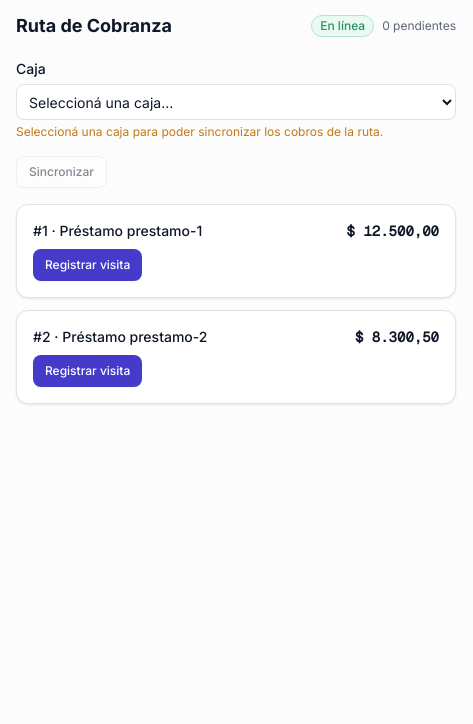
RutaPage (La Ruta offline) › BLOCKER: sin caja seleccionada, una visita de pago no sincroniza y avisa 'Seleccioná una caja'
Click the button "Registrar visita" below "$ 12.500,00". click: (88, 265)
box: [33,249,142,281]
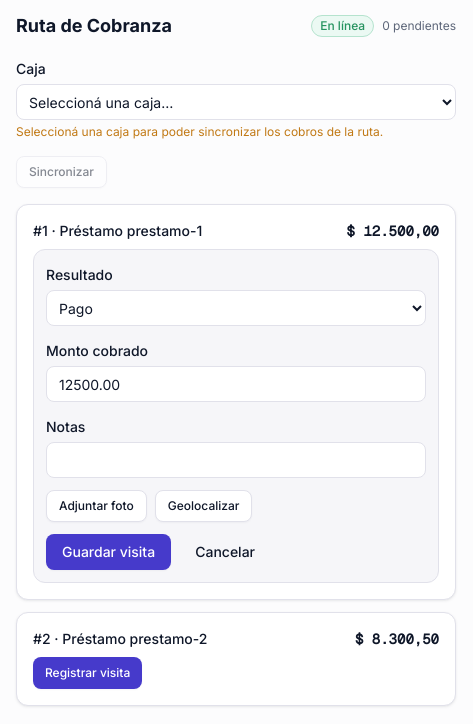
Replace the text in the field labelled "Monto cobrado" with "2200.00". click: (236, 384)
box: [46,366,426,402]
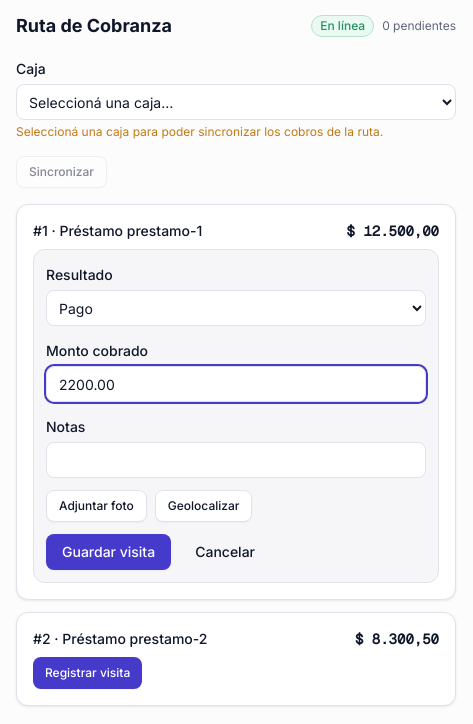
Click the button "Guardar visita". click: (109, 552)
box: [46,534,171,570]
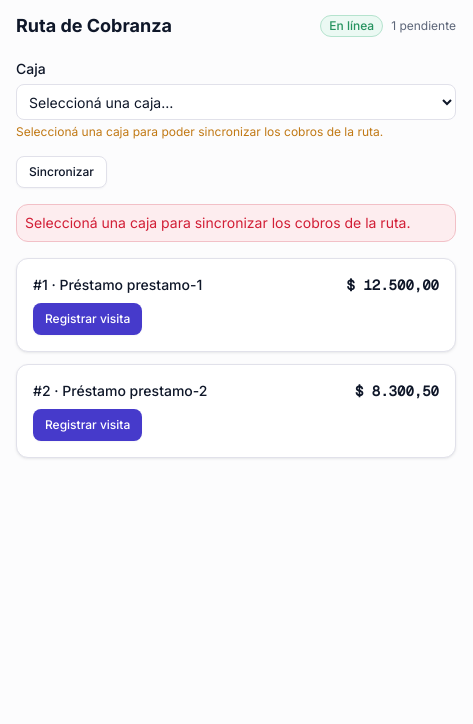
Expected: the message reads "Seleccioná una caja para sincronizar los cobros de la ruta.", [25,214,410,231]
